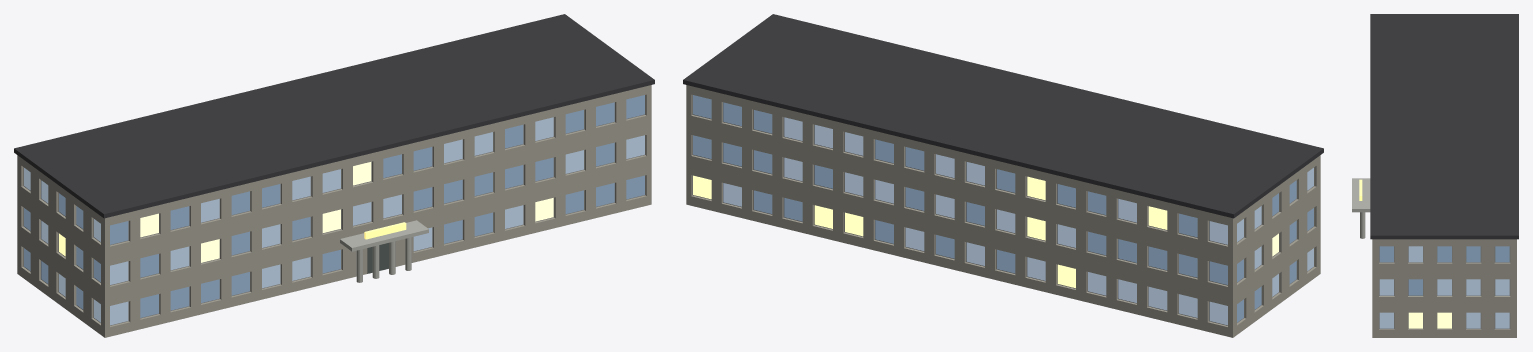
The model's file is school.glb.
3 renders of one model, left to right at view 1: azimuth 30°, elevation 25°; view 2: azimuth 150°, elevation 25°; view 3: azimuth 270°, elevation 25°, orthographic. The views are drawn at different scales.
Visible parts, largest first — view 1: facade_front, roof, facade_left, portico_roof; view 2: facade_back, roof, facade_left; view 3: roof, facade_right, portico_roof, column.003.
Part boxes in pixels (x1,y1,x2,y2): facade_front: (105,85,651,337); roof: (14,14,654,218); facade_left: (17,155,104,337); portico_roof: (340,220,428,251); facade_back: (686,85,1232,337); roof: (683,14,1323,218); facade_left: (1233,155,1320,337); roof: (1370,14,1518,239); facade_right: (1372,239,1516,337); portico_roof: (1352,178,1370,212); column.003: (1360,212,1365,238).
Size of what is drawn, in the model's own units: 54.4 by 11.8 by 17.3.
